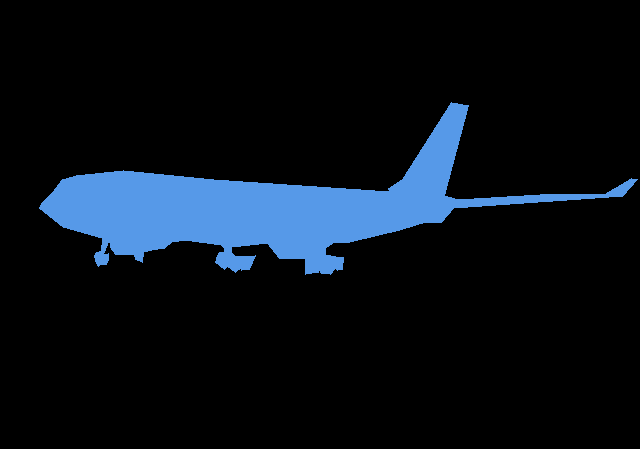Airplane: (39, 102, 638, 275)
